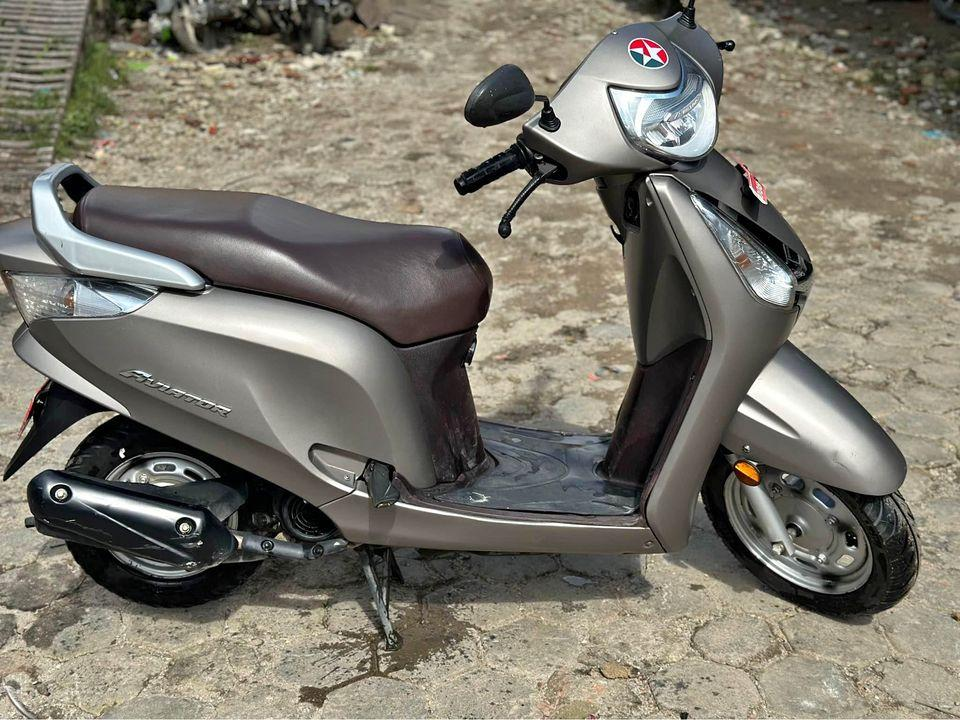scooter: (6, 9, 928, 638)
